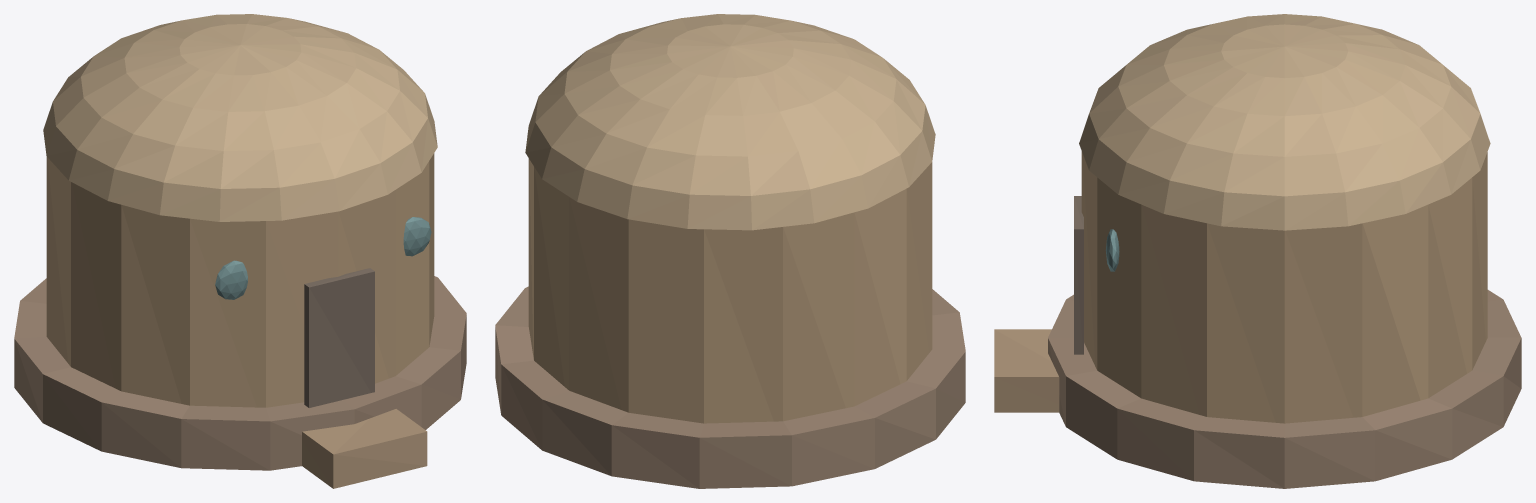
The model's file is desert_dome_house.glb.
3 renders of one model, left to right at view 1: azimuth 30°, elevation 25°; view 2: azimuth 150°, elevation 25°; view 3: azimuth 270°, elevation 25°, orthographic. The views are drawn at different scales.
Visible parts, largest first — view 1: dome, walls, foundation, door, step, window_-0.38, window_0.38; view 2: walls, dome, foundation; view 3: walls, dome, foundation, step, door.
Part boxes in pixels (x1,y1,x2,y2): dome: (43,14,437,221); walls: (46,153,434,407); foundation: (14,276,466,470); door: (304,268,374,407); step: (302,409,427,488); window_-0.38: (215,260,247,299); window_0.38: (403,217,431,256); walls: (528,158,932,423); dome: (525,14,935,230); foundation: (495,286,965,488); walls: (1081,151,1487,423); dome: (1079,14,1490,230); foundation: (1048,290,1521,488); step: (994,329,1059,412); door: (1074,196,1083,354).
Size of the model in its own units: 1.68 by 1.34 by 1.87.
